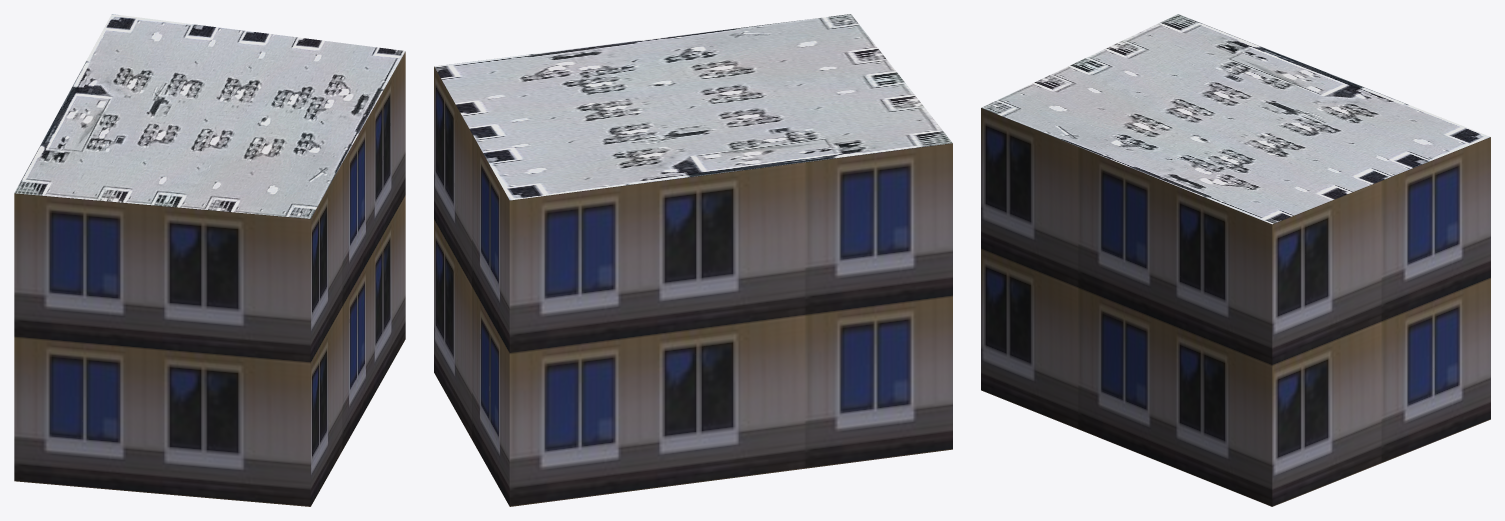
The model's file is ResTex__1664.fbx.
The picture shows the model from 3 angles, left to right: view 1: azimuth 30°, elevation 25°; view 2: azimuth 150°, elevation 25°; view 3: azimuth 270°, elevation 25°; orthographic projection. The views are drawn at different scales.
Visible parts, largest first — view 1: CityEngineMaterial_5_m, CityEngineMaterial_8_m; view 2: CityEngineMaterial_5_m, CityEngineMaterial_8_m; view 3: CityEngineMaterial_5_m, CityEngineMaterial_8_m.
Boxes of the visible parts, <box> form: CityEngineMaterial_5_m: <box>14,52,405,506</box>; CityEngineMaterial_8_m: <box>14,14,405,218</box>; CityEngineMaterial_5_m: <box>434,66,952,506</box>; CityEngineMaterial_8_m: <box>434,14,952,200</box>; CityEngineMaterial_5_m: <box>981,108,1490,506</box>; CityEngineMaterial_8_m: <box>981,14,1490,224</box>.
Size of the model in its own units: 9.58 by 6 by 9.81.
Materials: 2 (2 with a texture image).
